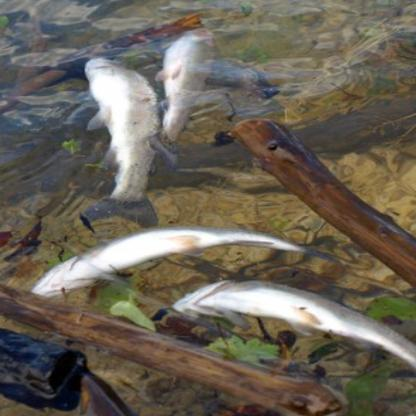deceased fish: (24, 223, 342, 298), (170, 276, 416, 368), (83, 56, 161, 227), (156, 22, 212, 138)
